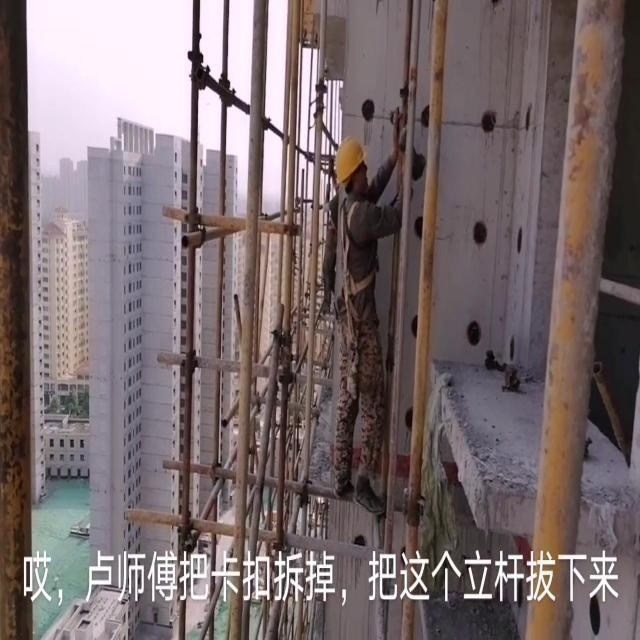Arnes_seguridad: (336, 191, 380, 313)
